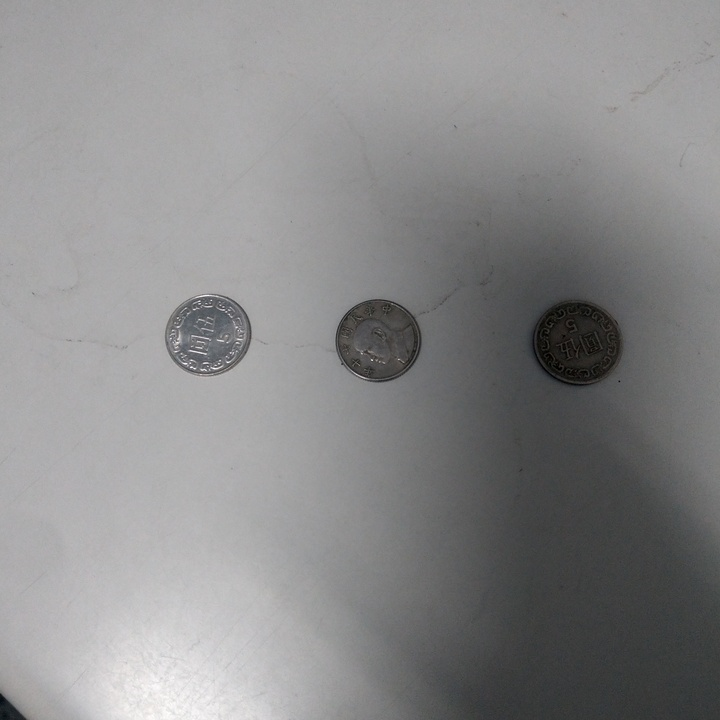5 dollar: (529, 298, 623, 388), (161, 293, 252, 378), (339, 297, 421, 383)
